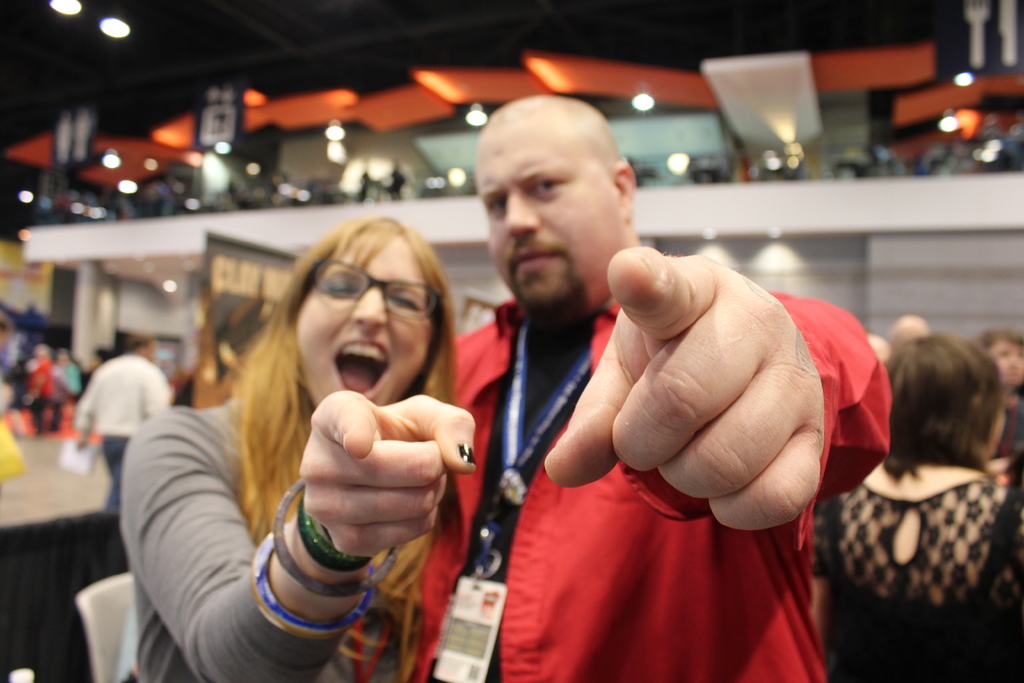Human_hand: (548, 238, 870, 559), (298, 388, 479, 557)
